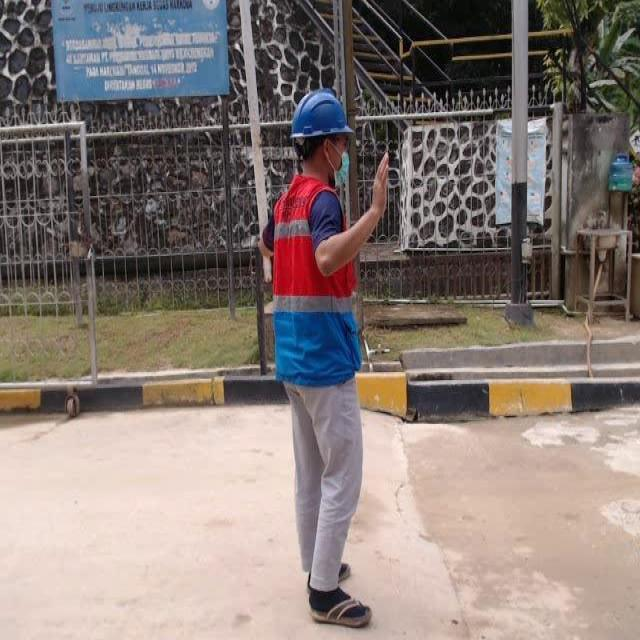helmet: (288, 90, 357, 140)
